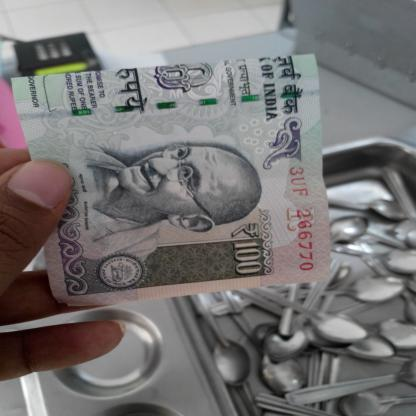Old100Front: (10, 53, 333, 309)
